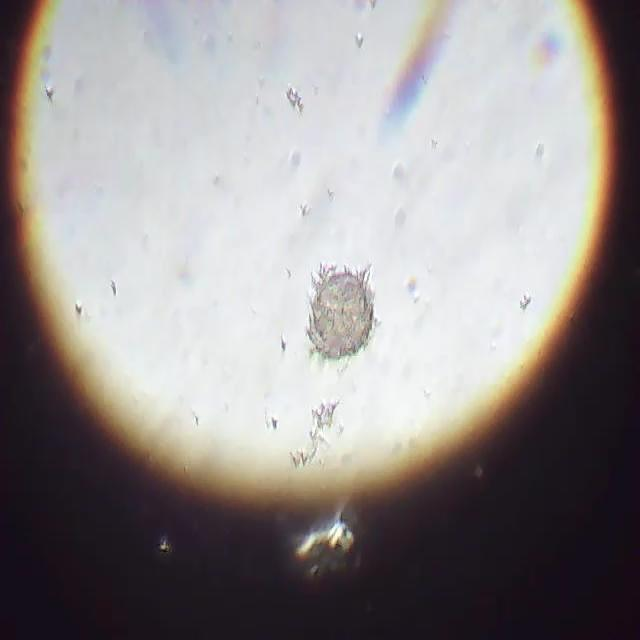alexandrium: (303, 266, 382, 364)
